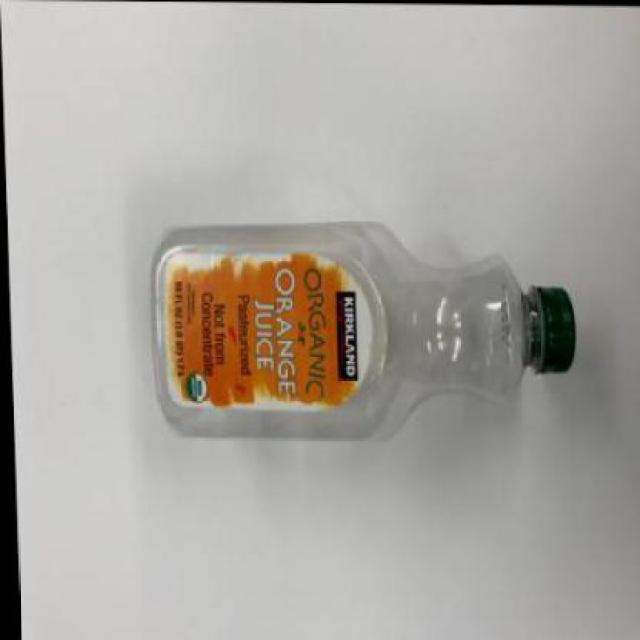Plastic: (148, 214, 583, 443)
